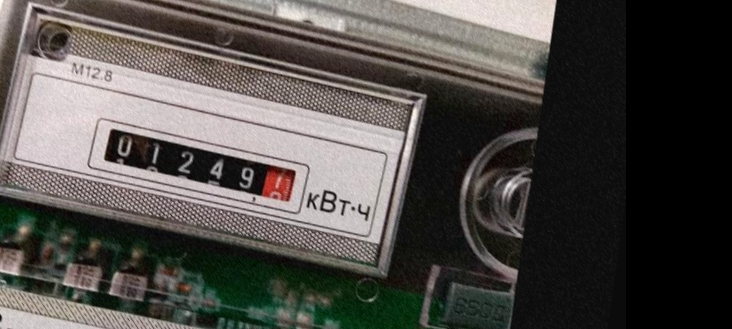0: (114, 130, 135, 159)
1: (145, 138, 163, 166)
2: (174, 148, 195, 176)
4: (207, 154, 226, 181)
7: (270, 164, 289, 191)
9: (235, 163, 255, 191)
screen: (83, 115, 315, 218)
